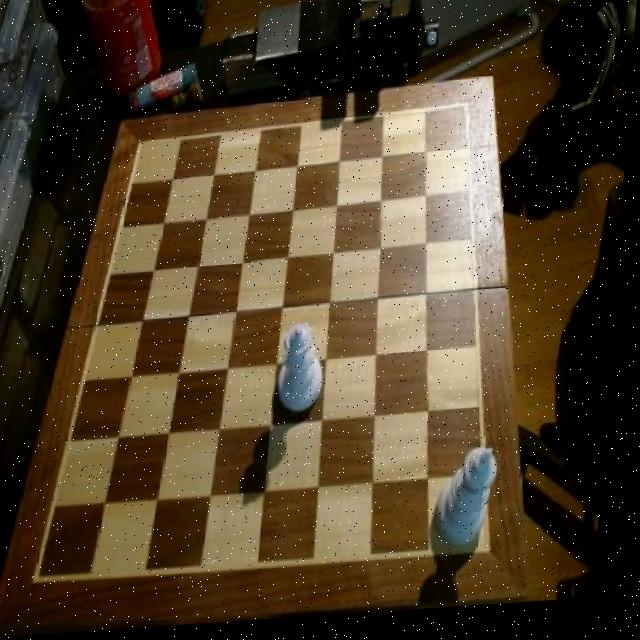white-bishop: (443, 449, 509, 556)
white-pawn: (282, 324, 335, 420)
